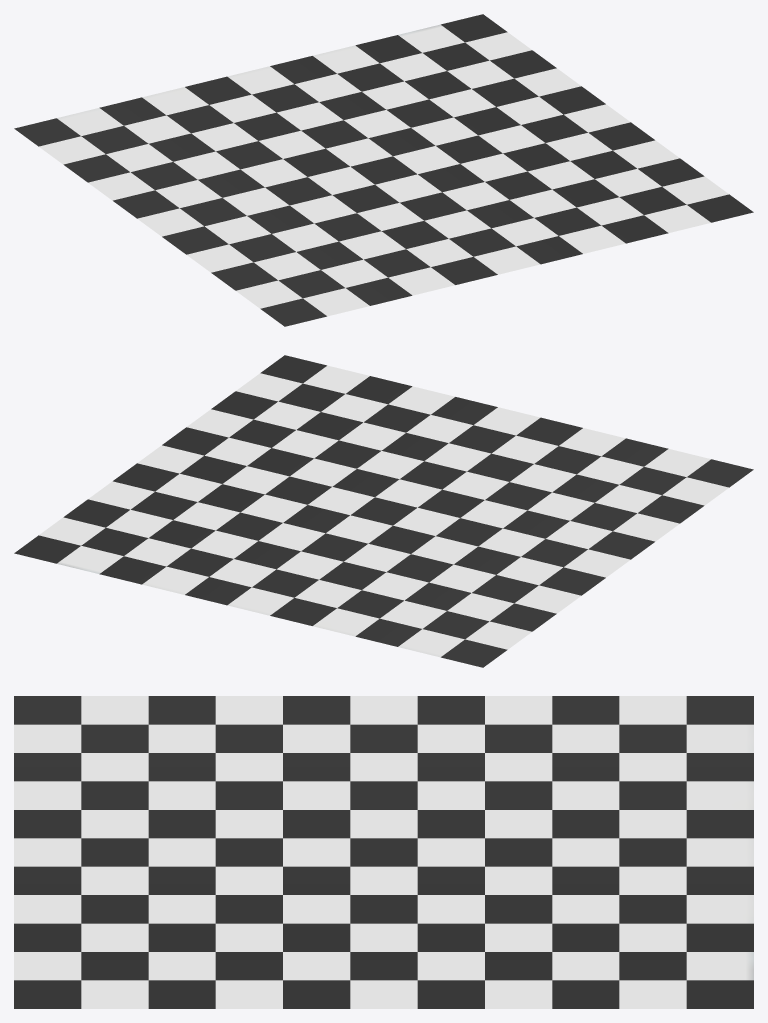
The model's file is Floor.fbx.
3 views of the same model, one above another, from view 1: azimuth 30°, elevation 25°; view 2: azimuth 150°, elevation 25°; view 3: azimuth 270°, elevation 25° (orthographic). The views are drawn at different scales.
Visible parts, largest first — view 1: Plane; view 2: Plane; view 3: Plane.
Part boxes in pixels (x1,y1,x2,y2): Plane: [14, 14, 753, 326]; Plane: [14, 355, 753, 667]; Plane: [14, 696, 753, 1008].
Bounding box in the file's own units: 5369 × 0.000875 × 5369.
